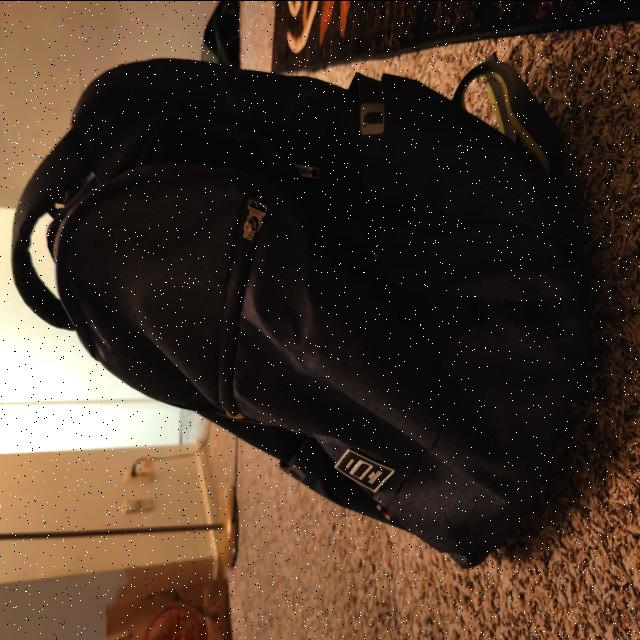bag: (9, 60, 576, 559)
